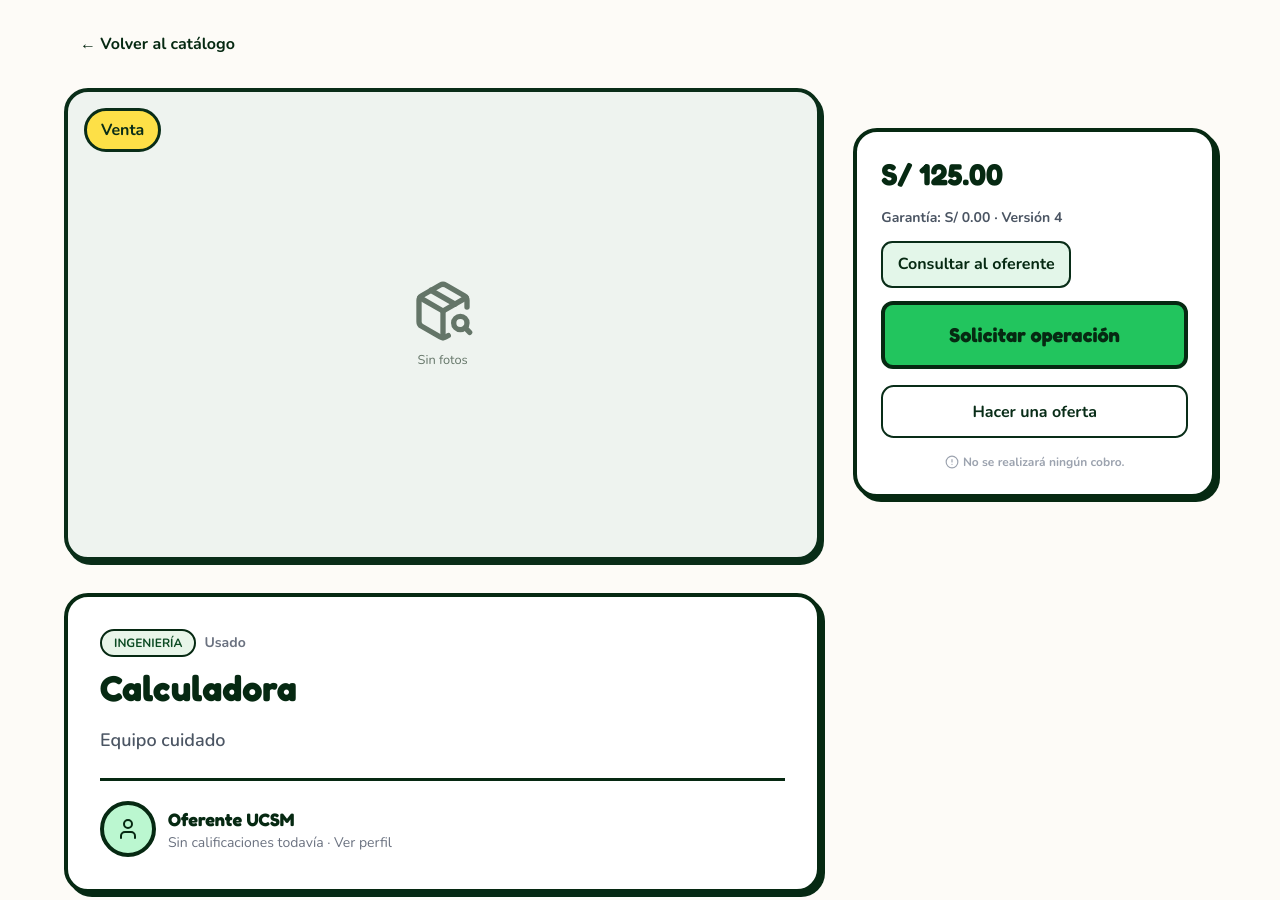
rejects invalid proposed amount 0 before sending
Check: the heading "Calculadora" is shown, box top-left (100, 666), bottom-right (297, 709)
Click the button "Hacer una oferta".
click(1035, 412)  # box top-left (881, 385), bottom-right (1188, 438)
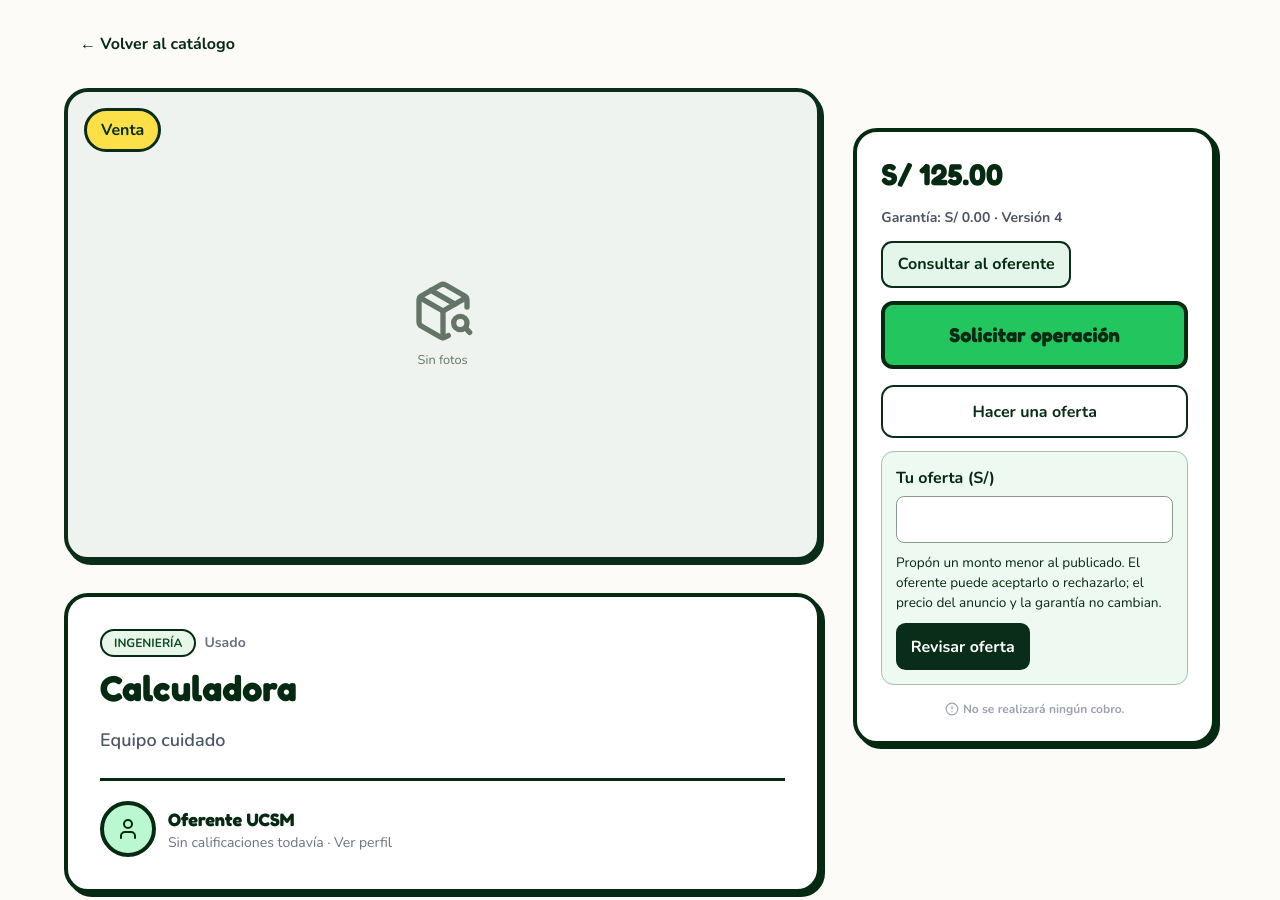
Type "0" into the number field labelled "Tu oferta (S/)".
click(1035, 520); type("0")  # box top-left (896, 496), bottom-right (1173, 543)
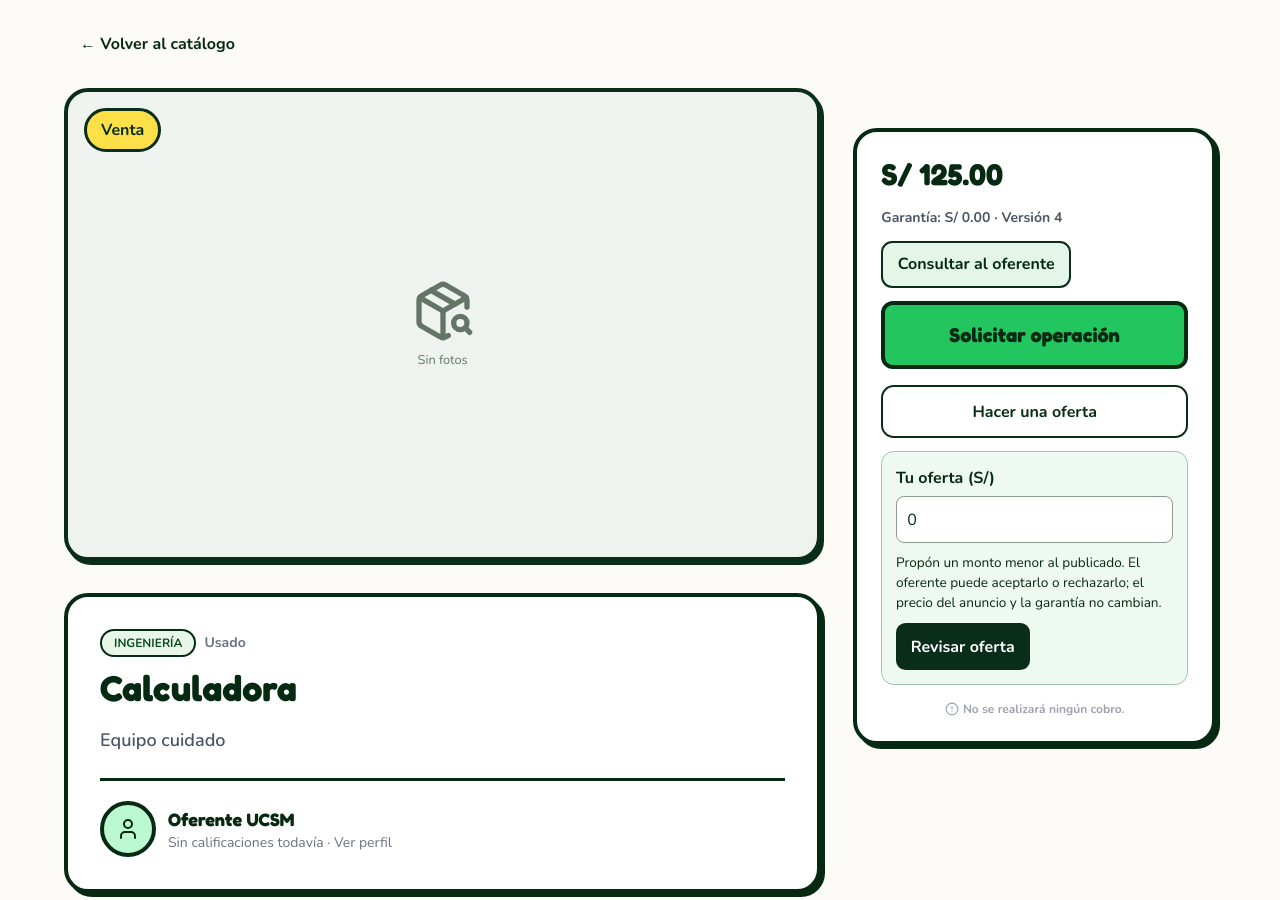
Click the button "Revisar oferta".
click(963, 647)  # box top-left (896, 623), bottom-right (1030, 670)
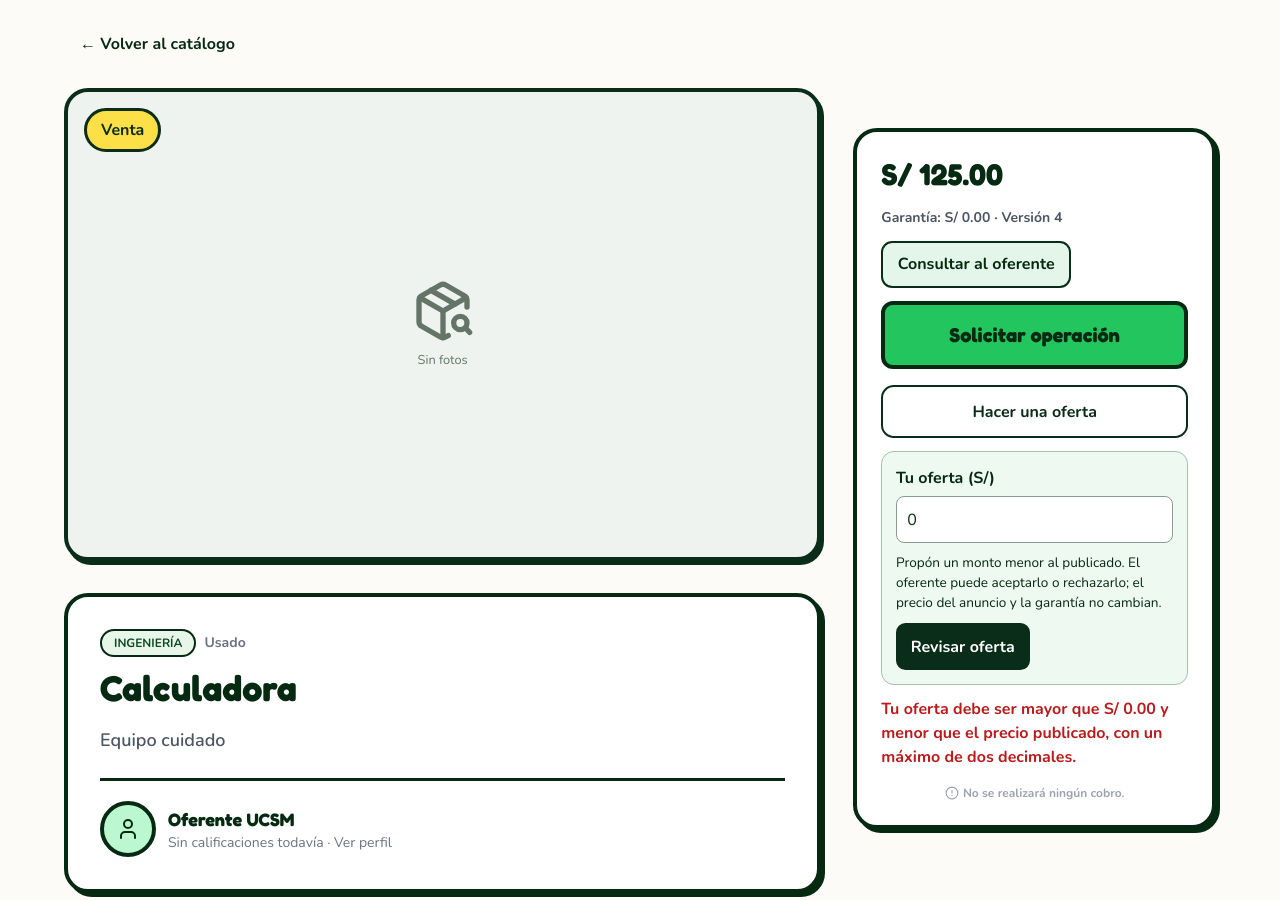
Check: the message shows "menor que el precio publicado", box top-left (881, 698), bottom-right (1169, 768)
